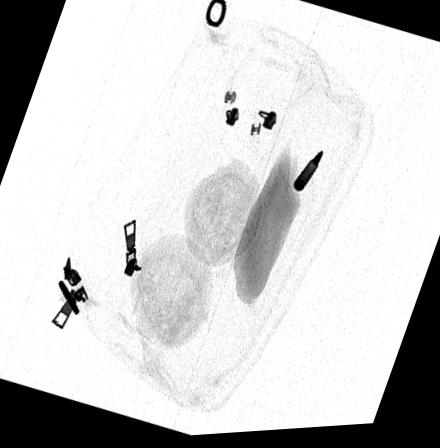Bullet: (291, 149, 325, 196)
